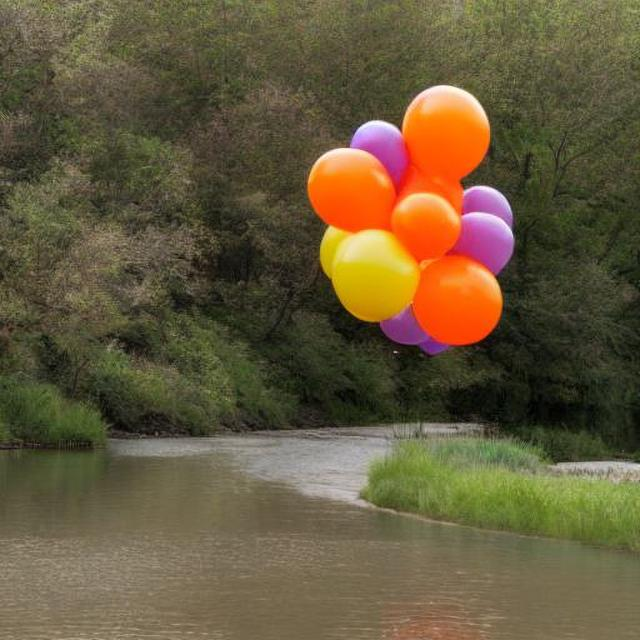balloon: (302, 91, 518, 358)
